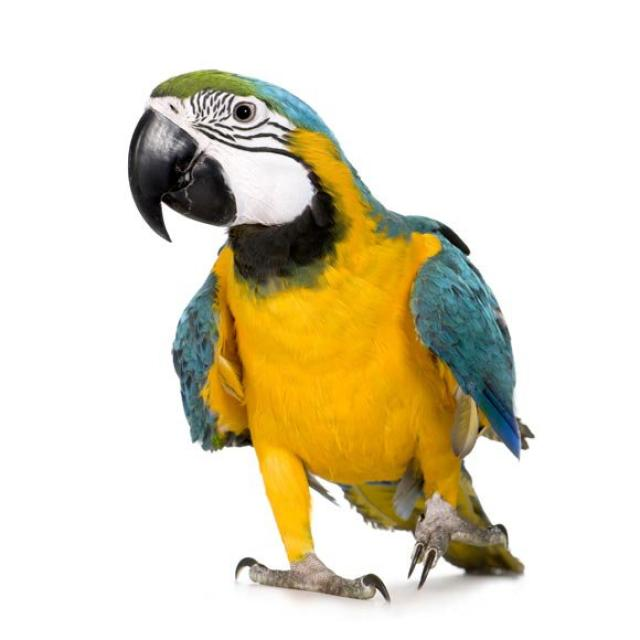Parrot: (123, 62, 536, 593)
